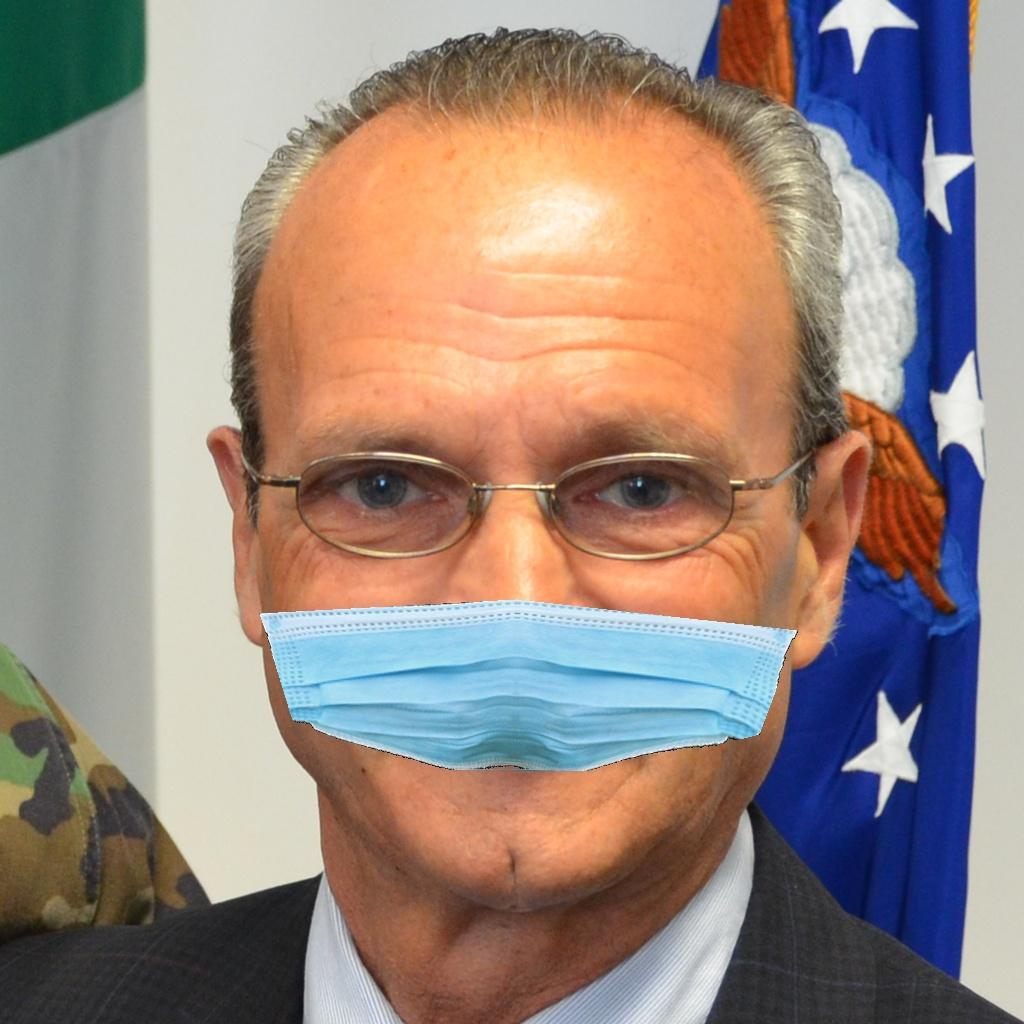Máscara Incorreta: (260, 175, 817, 916)
